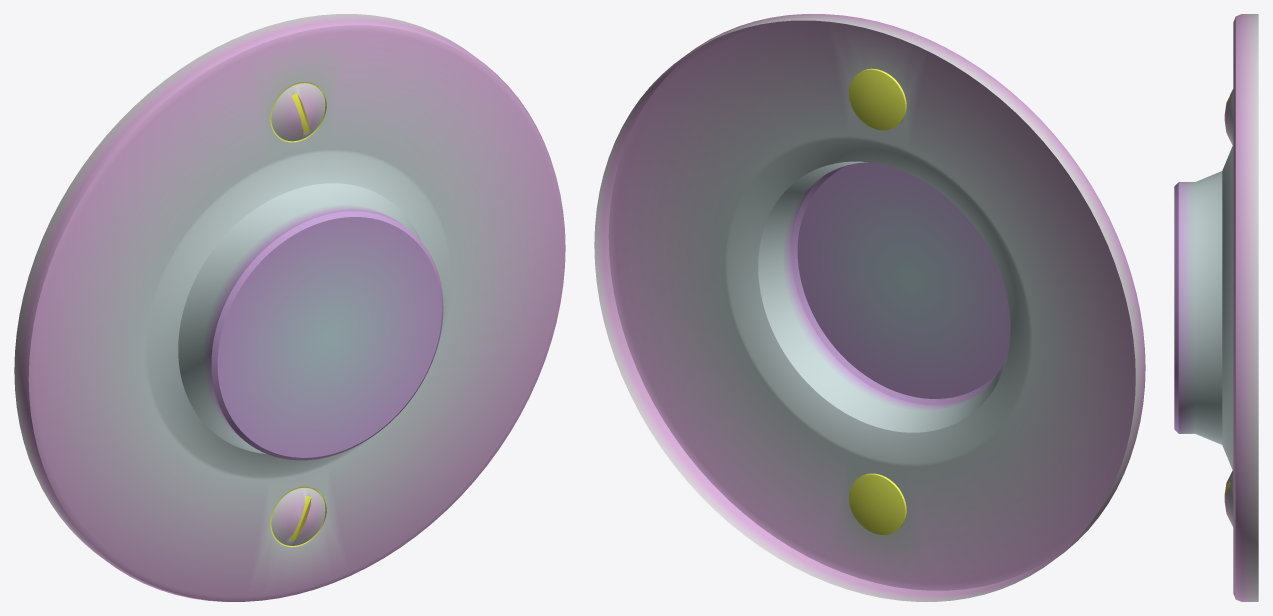
The model's file is Kit_Lock_Rose.fbx.
3 views of the same model, side by side, from view 1: azimuth 30°, elevation 25°; view 2: azimuth 150°, elevation 25°; view 3: azimuth 270°, elevation 25° (orthographic). The views are drawn at different scales.
Parts seen in each view (by area): view 1: Kit_Lock_Rose_LOD0; view 2: Kit_Lock_Rose_LOD0; view 3: Kit_Lock_Rose_LOD0.
Part boxes in pixels (box(x1,y1,x2,y2)): Kit_Lock_Rose_LOD0: box(14, 14, 565, 601); Kit_Lock_Rose_LOD0: box(594, 14, 1145, 601); Kit_Lock_Rose_LOD0: box(1174, 14, 1258, 601).
Size of what is drawn, in the model's own units: 0.07 by 0.07 by 0.01.
